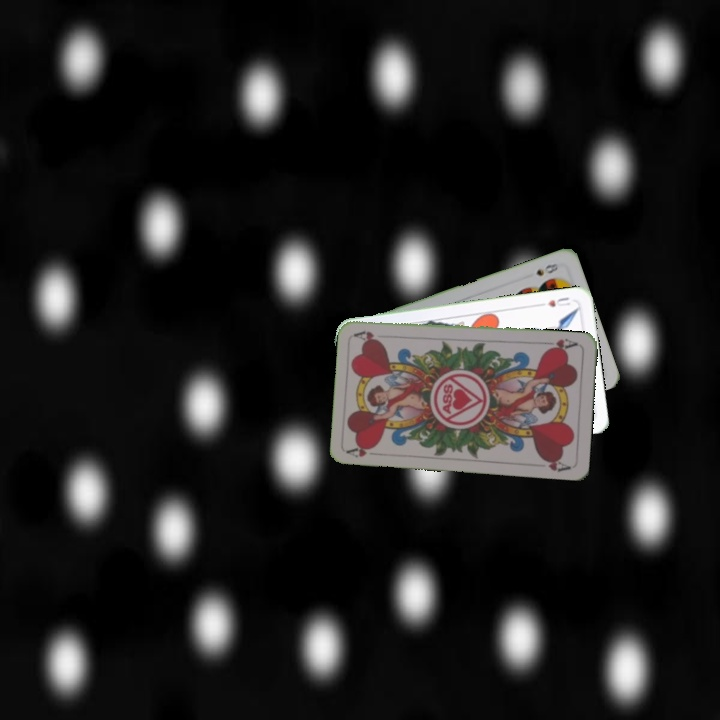HA: (541, 334, 580, 354), (344, 441, 385, 460)
HU: (543, 293, 573, 309)
S8: (532, 259, 561, 278)
